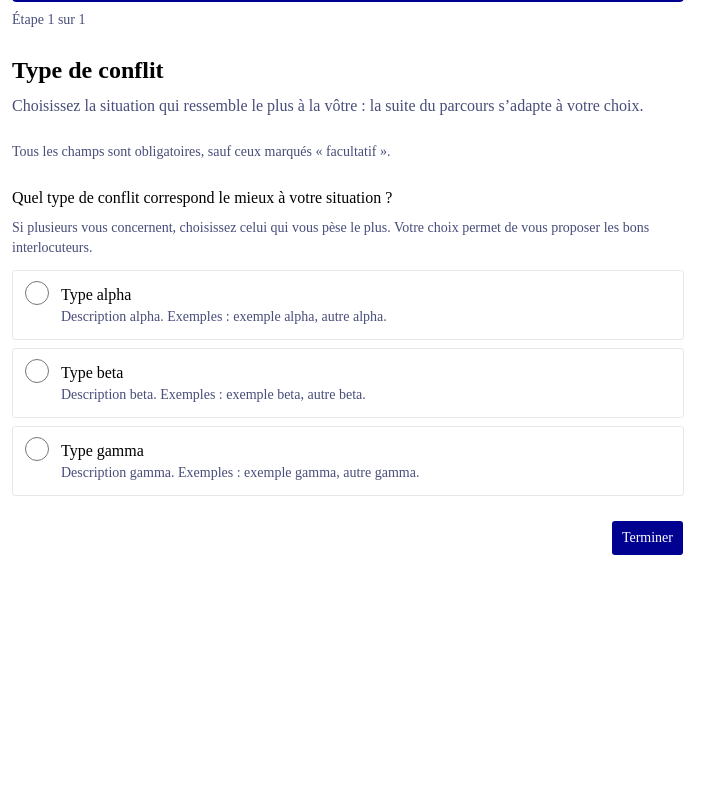
Test: follow-up questions step › rendering from the content, one case per kind › renders a yes/no question as two radio buttons
Click the radio button labelled "Type alpha" at (37, 293), box left=25, top=281, right=49, bottom=305
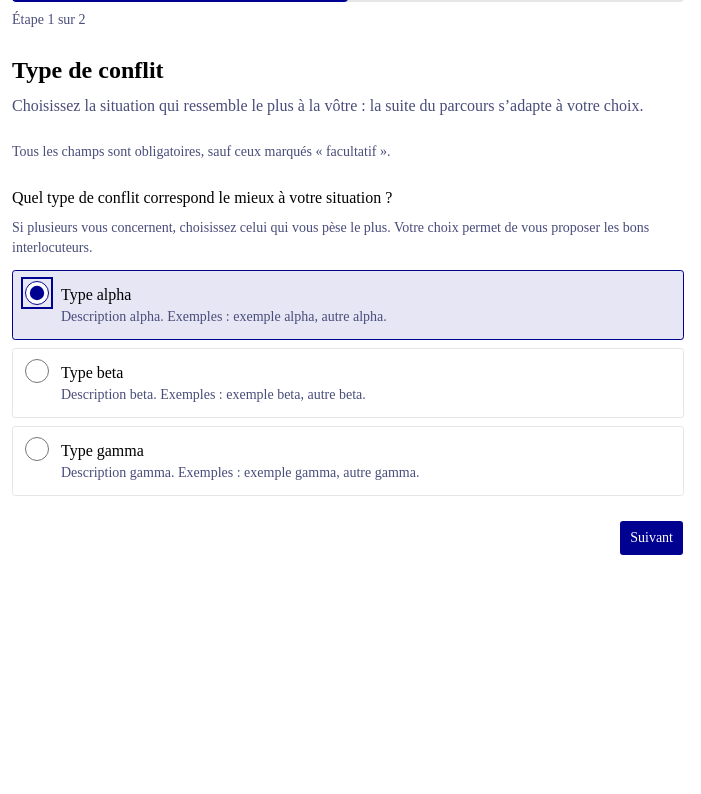
Click the button "Suivant" at (652, 538), box left=619, top=520, right=684, bottom=556
(page scrolled)
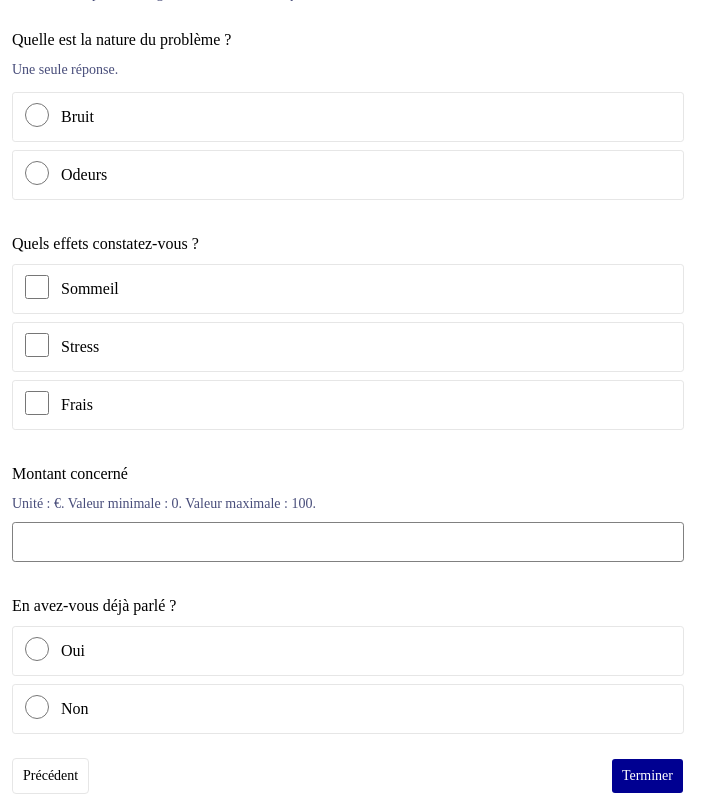
Now the radio button labelled "Oui" is shown, box left=25, top=637, right=49, bottom=661
Now the radio button labelled "Non" is shown, box left=25, top=695, right=49, bottom=719
